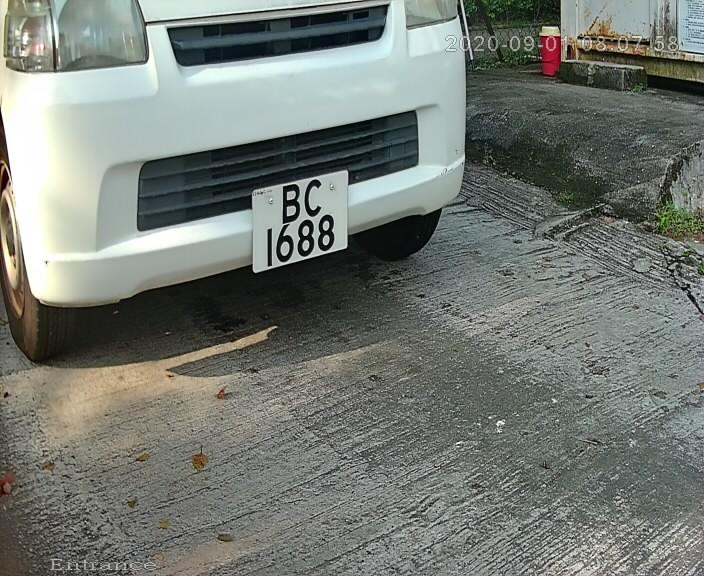Car: (23, 6, 510, 358)
License Plate: (243, 173, 362, 273)
